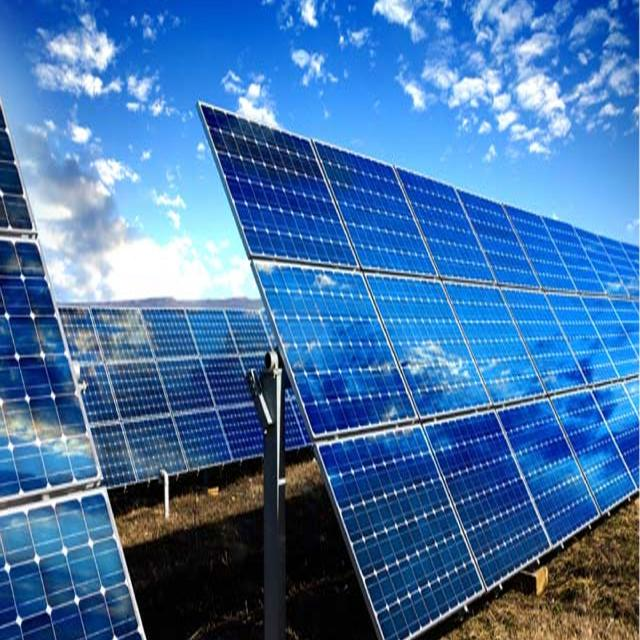clean-solar-panel: (199, 105, 640, 635), (0, 107, 142, 640)
